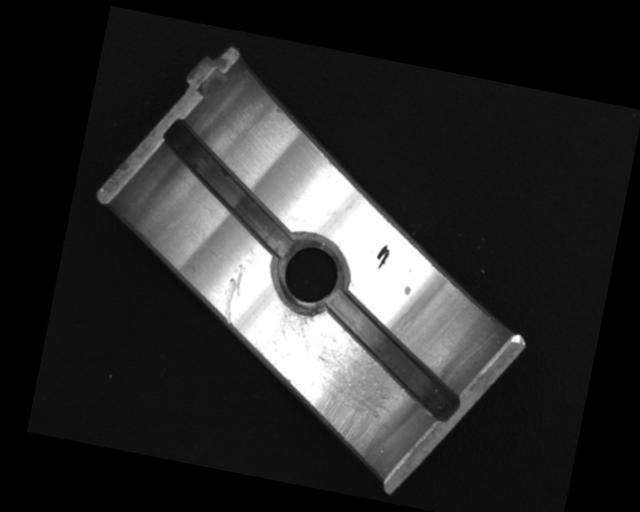blot: (373, 241, 391, 271)
bruise: (401, 283, 413, 298)
gap: (146, 119, 312, 258), (313, 292, 476, 421)
hole: (266, 231, 354, 319)
nick: (218, 261, 248, 326)
scratch: (252, 302, 406, 462)
